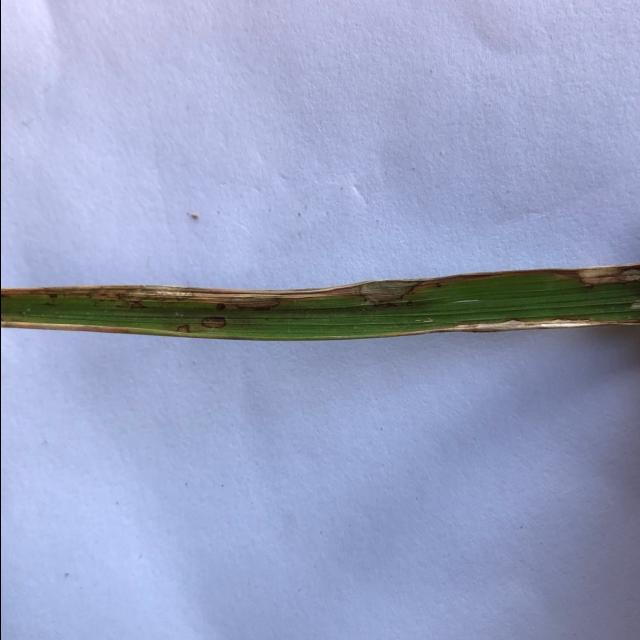Leaf Blight: (339, 263, 640, 307), (0, 281, 421, 309), (392, 316, 640, 337), (0, 321, 190, 337), (200, 313, 225, 329), (629, 298, 640, 310)
